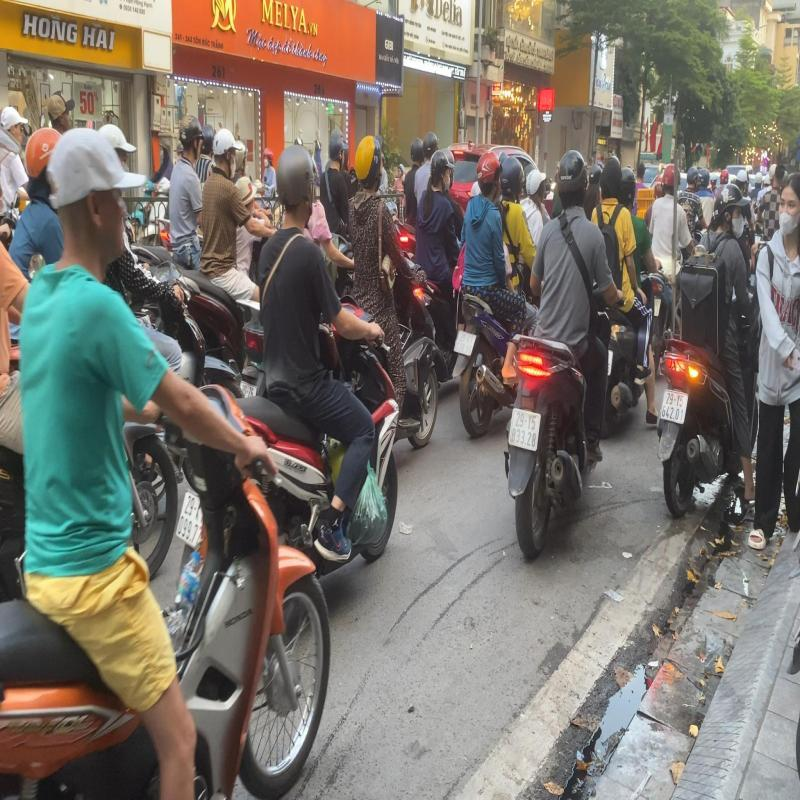nohelmet: (598, 154, 623, 200)
